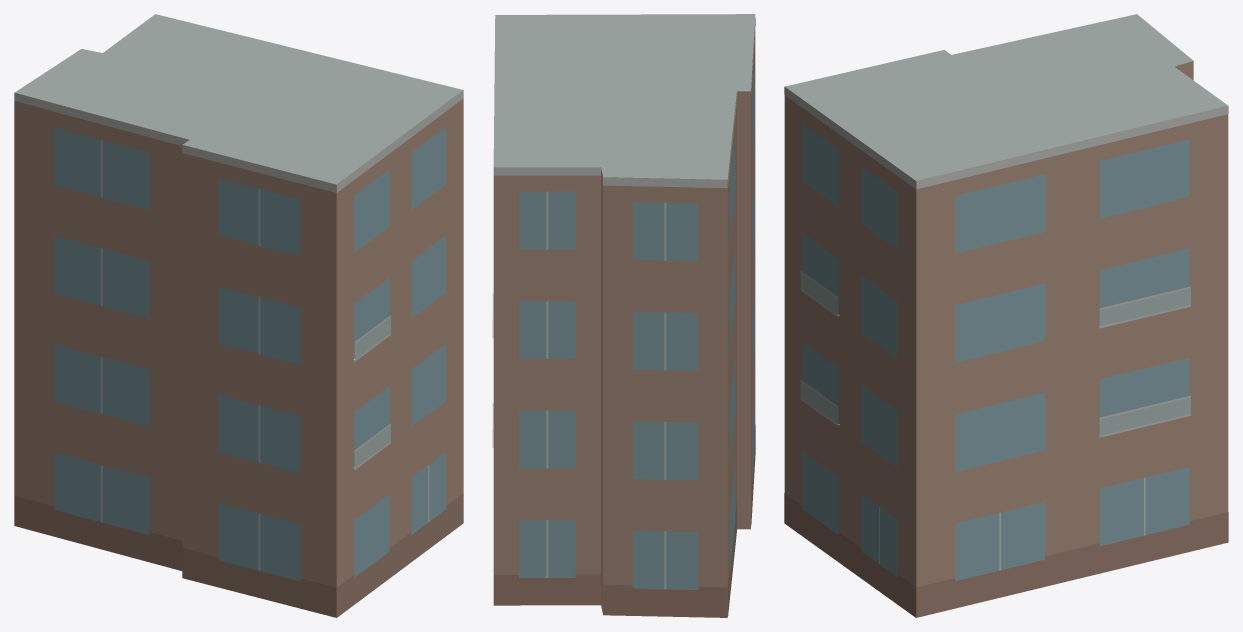
The model's file is survey-upis-32506481.glb.
3 renders of one model, left to right at view 1: azimuth 30°, elevation 25°; view 2: azimuth 150°, elevation 25°; view 3: azimuth 270°, elevation 25°, orthographic.
Visible parts, largest first — view 1: survey-upis-32506481.tmp; view 2: survey-upis-32506481.tmp; view 3: survey-upis-32506481.tmp.
Boxes of the visible parts, x1,y1,x2,y2 form: survey-upis-32506481.tmp: (14, 14, 463, 617); survey-upis-32506481.tmp: (492, 14, 755, 617); survey-upis-32506481.tmp: (784, 14, 1228, 617).
Bounding box in the file's own units: 10.43 × 12.7 × 11.7.
